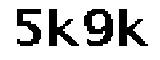5: (12, 5, 44, 48)
9: (81, 6, 114, 53)
k: (116, 6, 154, 52), (46, 7, 80, 53)
